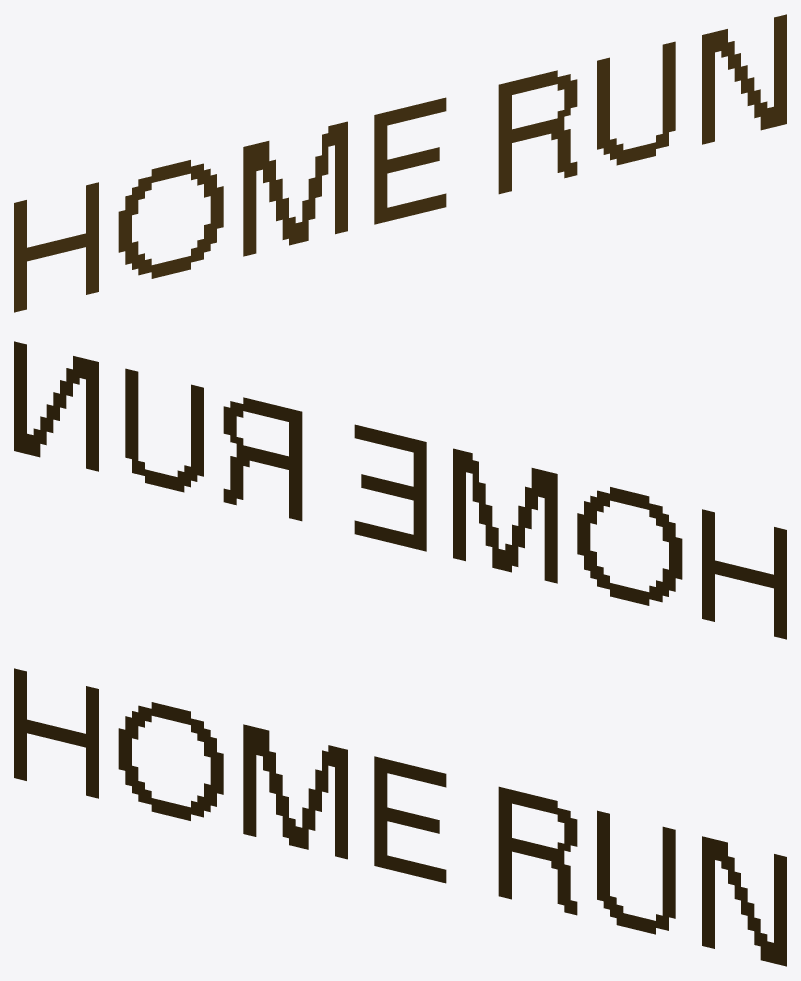
File: result_home_run.obj
3 renders of one model, top to bottom at view 1: azimuth 30°, elevation 25°; view 2: azimuth 150°, elevation 25°; view 3: azimuth 330°, elevation 25°, orthographic.
Visible parts, largest first — view 1: board_text; view 2: board_text; view 3: board_text.
Part boxes in pixels (x1,y1,x2,y2): board_text: (14, 14, 786, 312); board_text: (14, 341, 786, 639); board_text: (14, 668, 786, 966).
Bounding box in the file's own units: 6.93 × 0.94 × 0.
